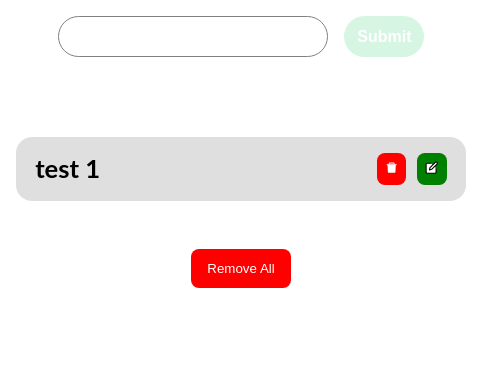
Test: todo functions › add new todo
Type "new Todo for Test" into the field with test id "input" at [193, 36], box top-left (58, 16), bottom-right (328, 57)
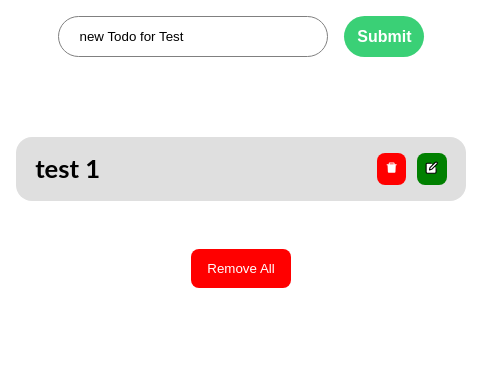
Click the button "Submit" at [384, 36], box top-left (344, 16), bottom-right (424, 57)
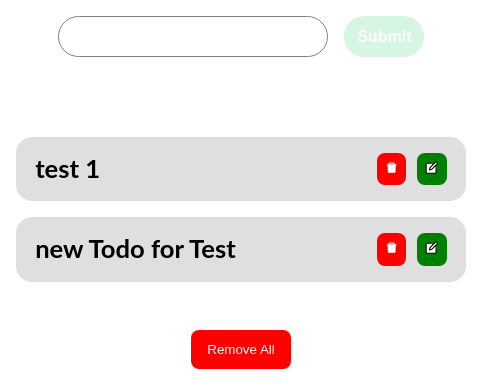
Now the heading "new Todo for Test" is shown, box top-left (35, 233), bottom-right (236, 266)
Now the field with test id "input" is empty, box top-left (58, 16), bottom-right (328, 57)
